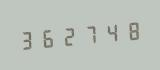eight: (123, 16, 143, 44)
four: (102, 18, 122, 46)
seven: (81, 19, 101, 48)
six: (38, 23, 58, 51)
three: (17, 25, 37, 53)
two: (60, 21, 80, 49)
